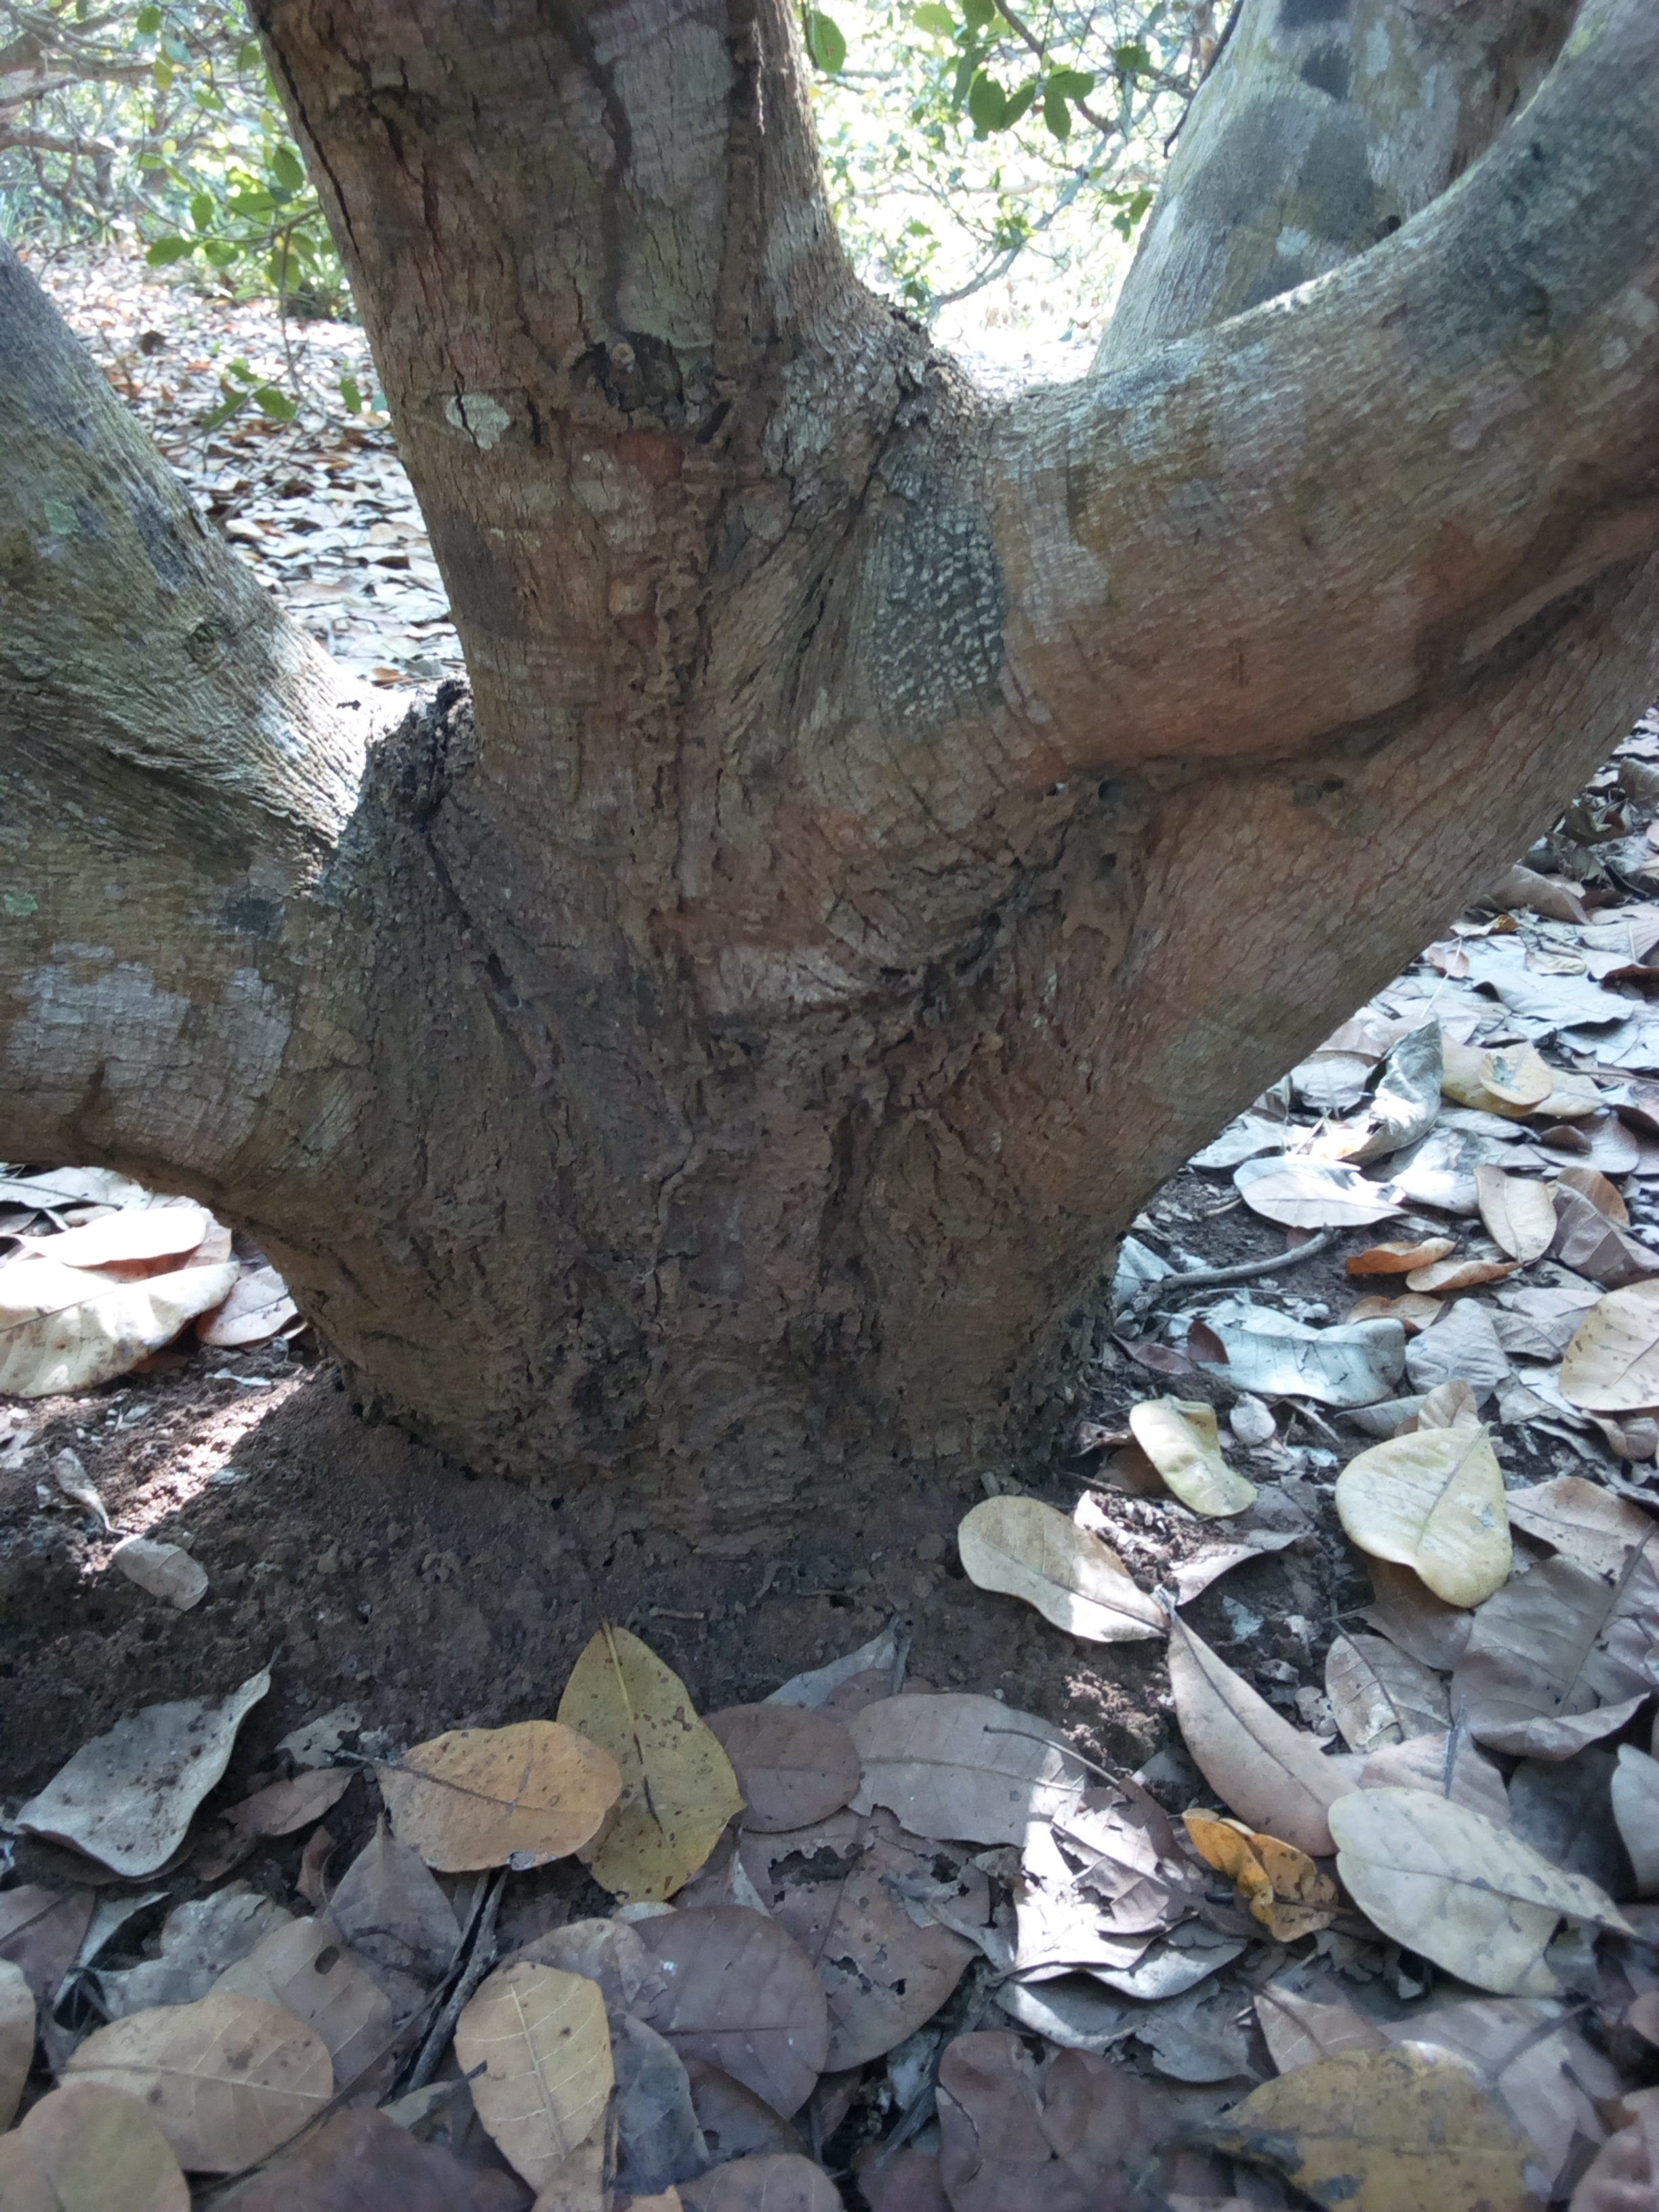Termites: (439, 887, 1060, 1500), (593, 9, 816, 923)
